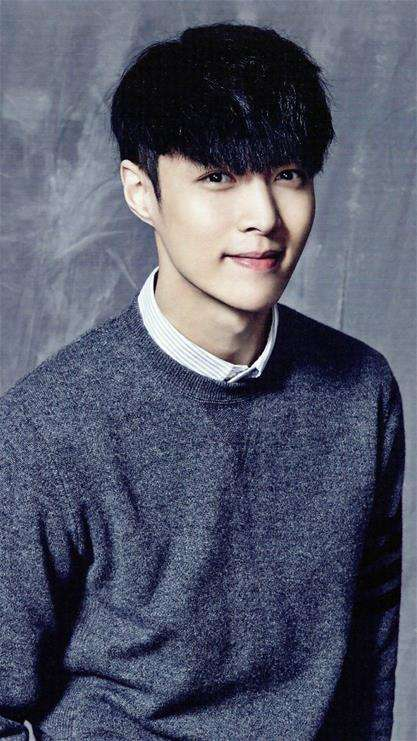person: (49, 28, 409, 581)
